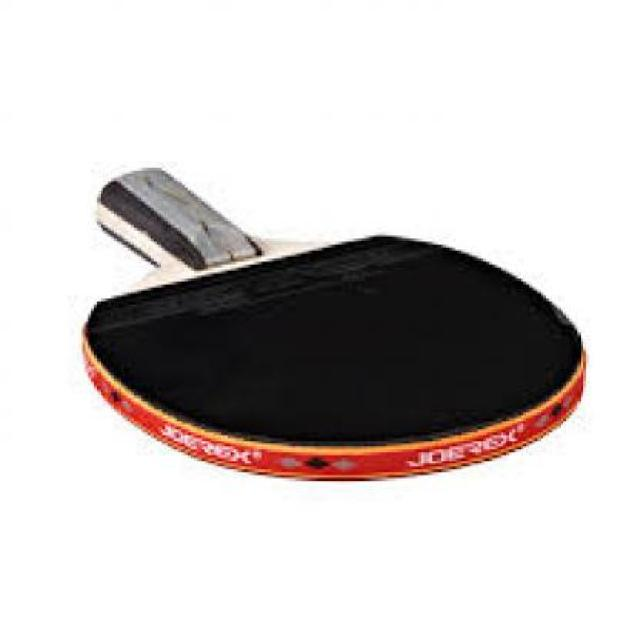table_tennis_racket: (70, 229, 595, 486)
